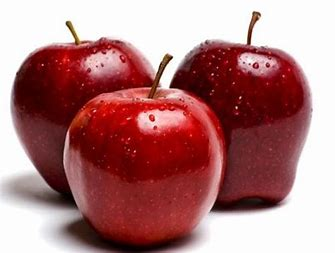fruit_apple: (61, 81, 228, 251), (7, 35, 164, 202), (170, 35, 317, 213)
